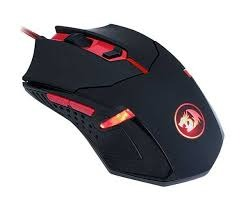mouse: (29, 14, 228, 189)
